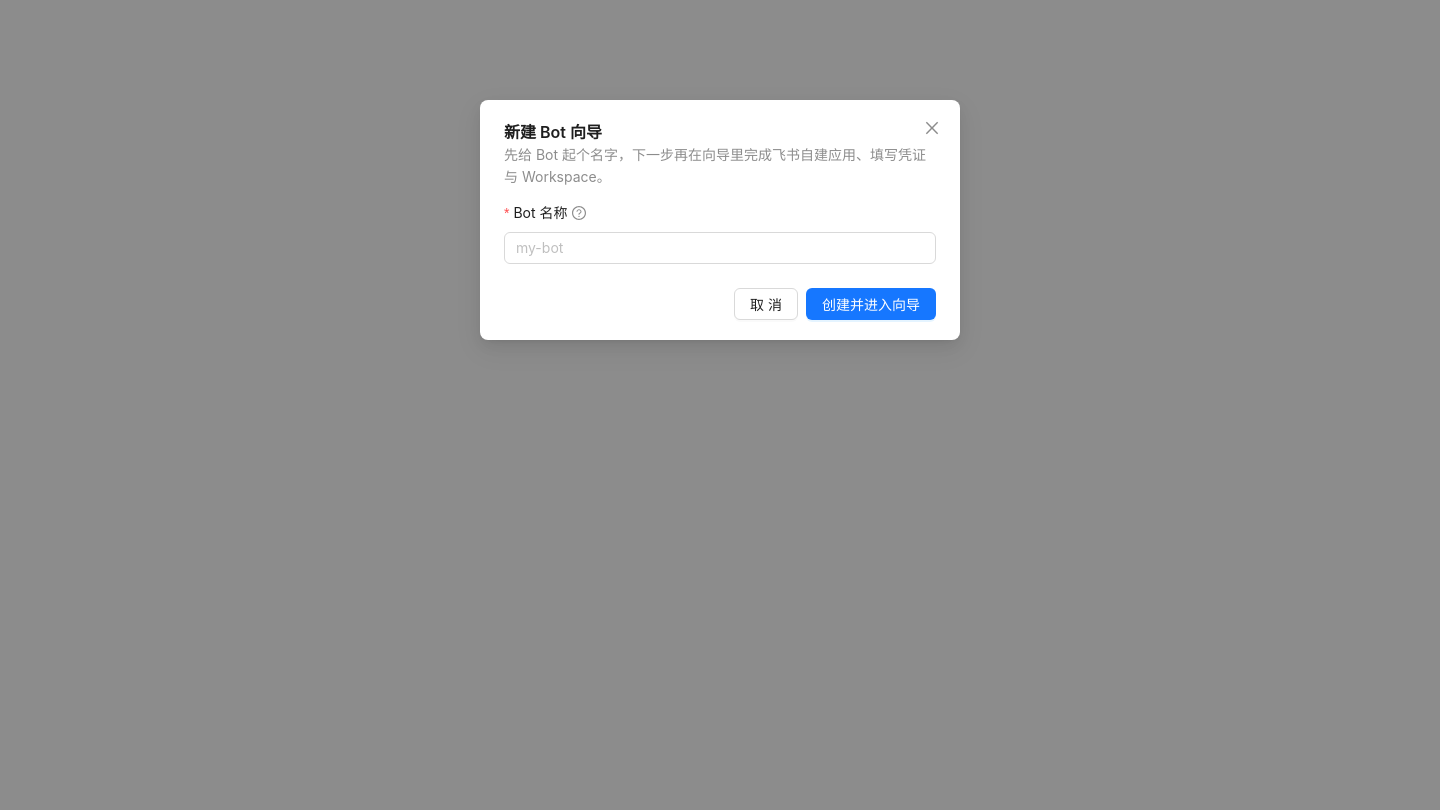
Test case: <CreateBotModal> (name-first) › 拒绝包含大写字母的非法名
Expected: the text "新建 Bot 向导" is shown, [504,122,602,142]
Type "Test-Bot" into the field with placeholder "my-bot". click: (712, 248)
box: [516,237,908,259]
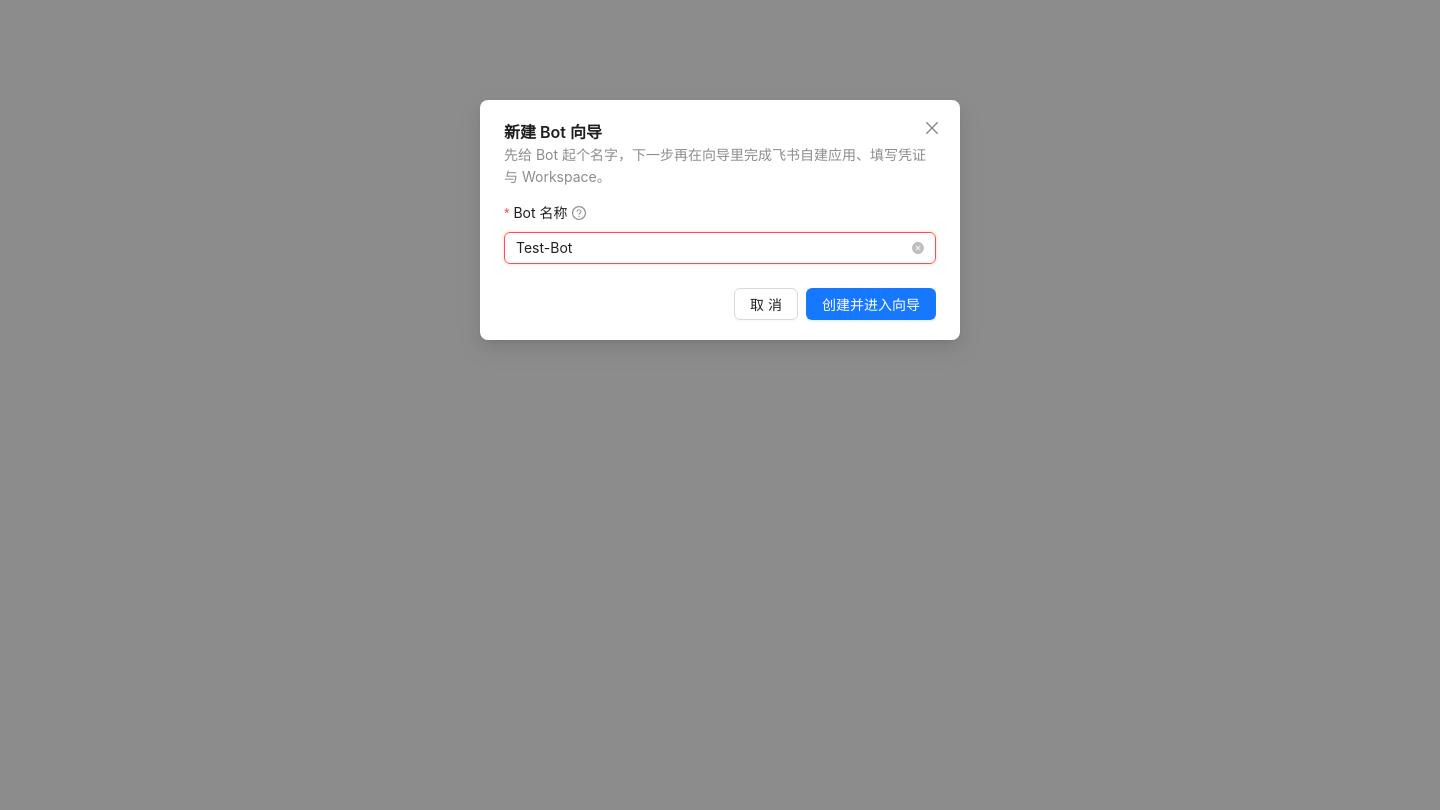
Click the button "创建并进入向导". click: (871, 304)
box: [806,288,936,320]
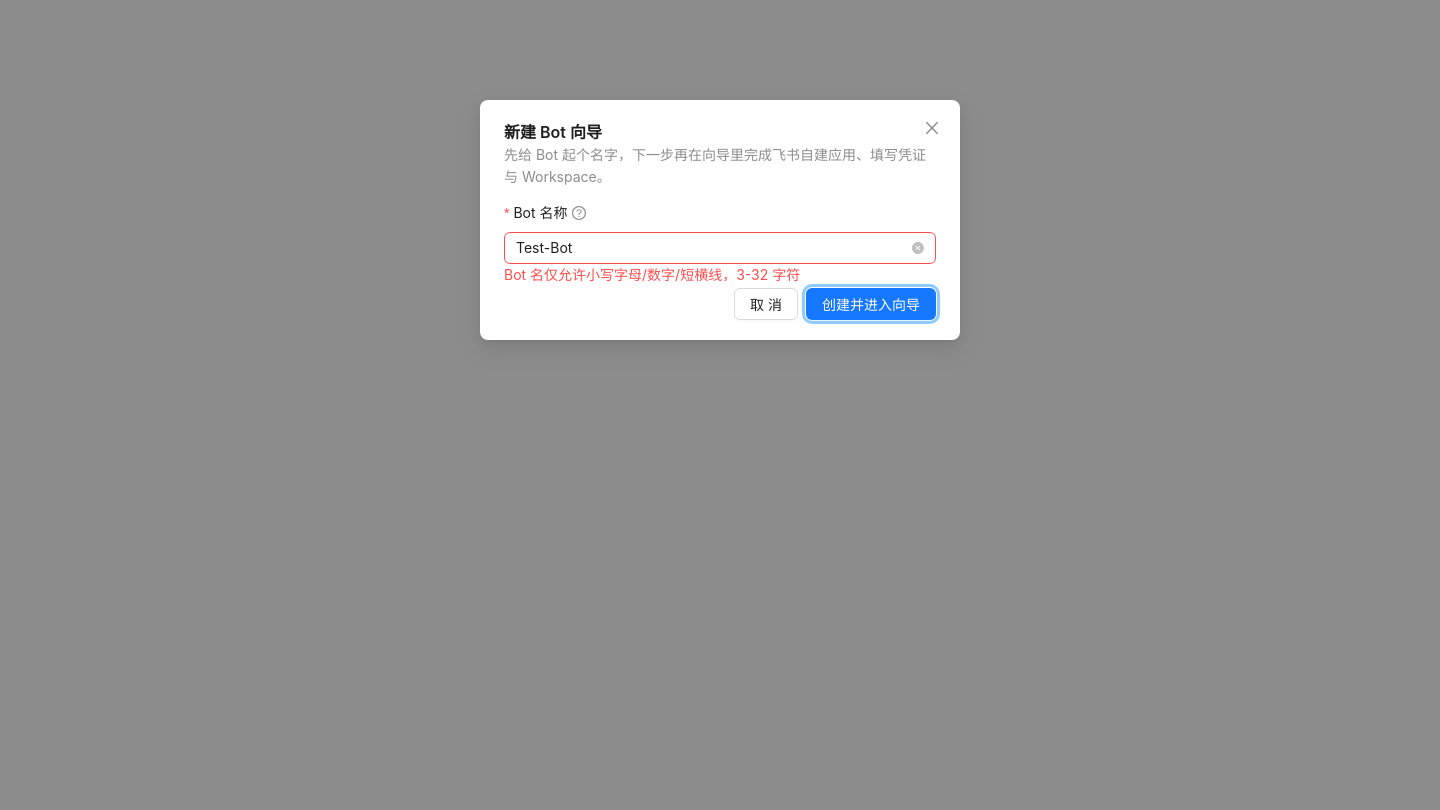
Expected: the text "Bot 名仅允许小写字母/数字/短横线，3-32 字符" is shown, [504,266,800,283]
